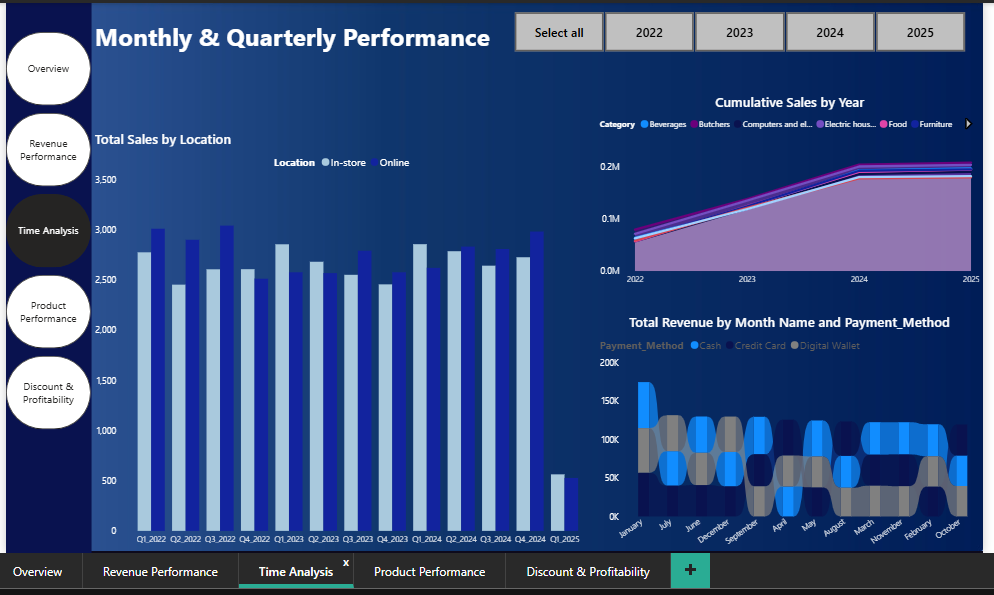

Layout of this report page (visuals, bound fields, positions):
{"tool":"powerbi","page":{"name":"Time Analysis","canvas":[1280,720],"ordinal":2},"visuals":[{"type":"textbox","box":[0,0,111.9,720.4],"z":0},{"type":"ribbonChart","fields":{"Category":["Dim_date.Month Name"],"Series":["clean_retail_sales.Payment_Method"],"Y":["clean_retail_sales.Total Revenue"]},"box":[772.9,404.1,506.9,315.9],"z":1000},{"type":"slicer","fields":{"Values":["Dim_date.Year"]},"box":[640.7,5.9,639.2,64.7],"z":2000},{"type":"clusteredColumnChart","title":"Total Sales by Location","fields":{"Y":["Dim_date.Total Sales"],"Series":["clean_retail_sales.Location"],"Category":["Dim_date.Quarter & Year"]},"box":[111.7,164.6,661.2,555.4],"z":3000},{"type":"textbox","box":[111.7,16.2,556.9,74.9],"z":4000},{"type":"pageNavigator","box":[0,38.2,111.7,524.6],"z":5000},{"type":"areaChart","title":"Cumulative Sales by Year","fields":{"Y":["clean_retail_sales.Cumulative Sales"],"Category":["Dim_date.Year"],"Series":["clean_retail_sales.Category"]},"box":[772.9,116.1,506.9,263],"z":6000}]}

Visuals, with their boxes on the page's 1280x720 design canvas (x1, y1, x2, y2). These are canvas units, not pixel positions in the 994x595 screenshot, which may show the page scaled, cropped or inside an application window:
textbox: <region>0, 0, 112, 720</region>
ribbonChart - Dim_date.Month Name x clean_retail_sales.Payment_Method: <region>773, 404, 1280, 720</region>
slicer - Dim_date.Year: <region>641, 6, 1280, 71</region>
"Total Sales by Location" clusteredColumnChart: <region>112, 165, 773, 720</region>
textbox: <region>112, 16, 669, 91</region>
pageNavigator: <region>0, 38, 112, 563</region>
"Cumulative Sales by Year" areaChart: <region>773, 116, 1280, 379</region>
